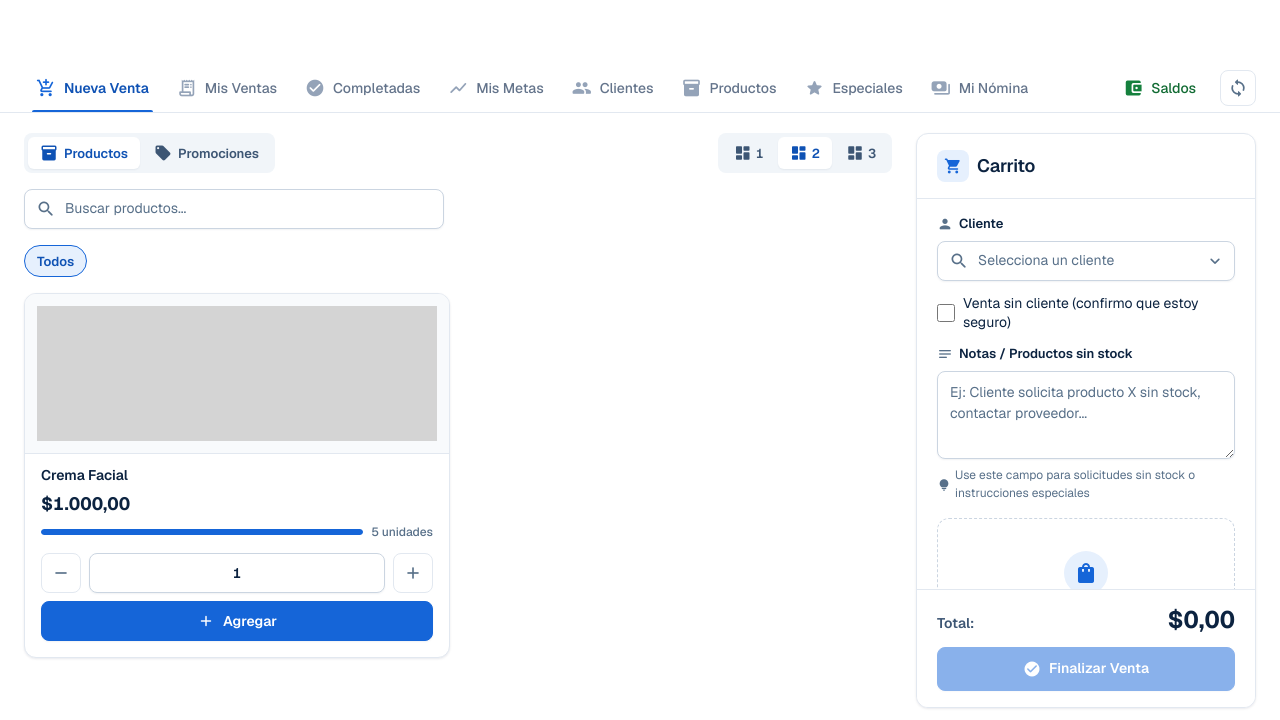
Test case: Mis Ventas: una respuesta vieja no devuelve a la página anterior
Expected: the heading "Crema Facial" is shown, [41, 466, 128, 485]
What coordinates should you click on to do the following:
click the button "Mis Ventas"
I would click on:
 (227, 88)
Its box is [165, 64, 289, 112].
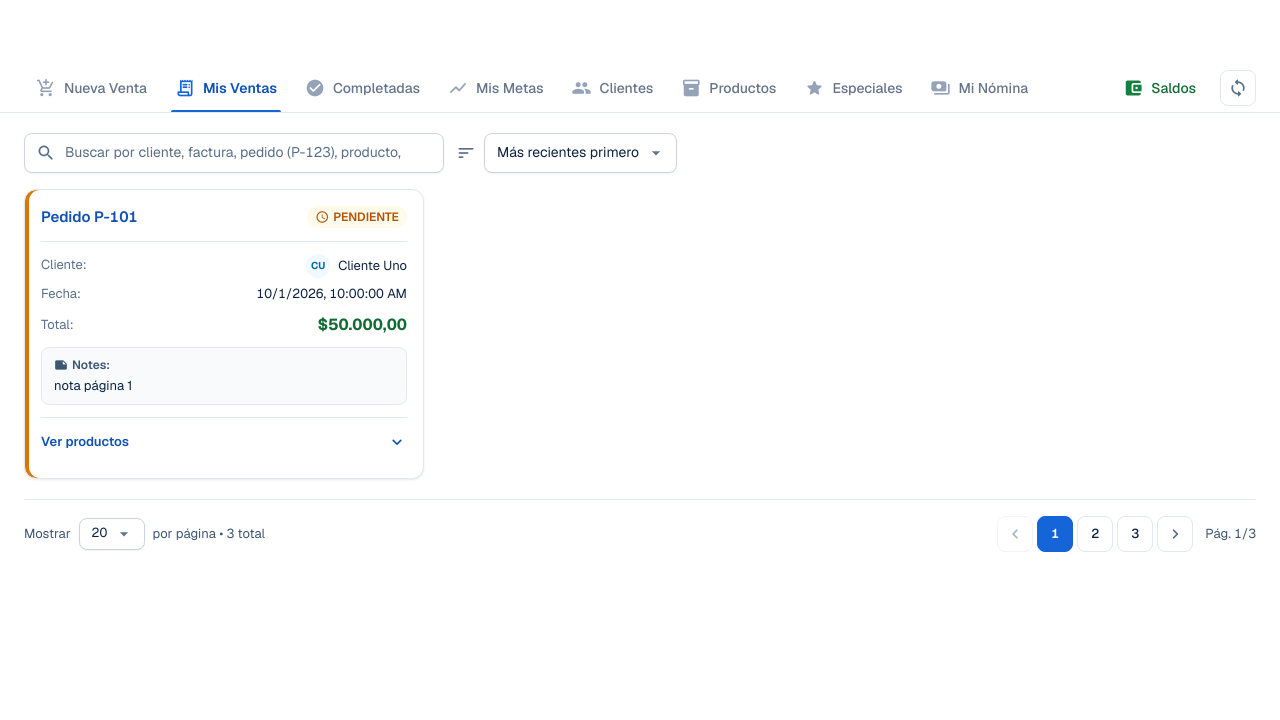
Expected: the text "nota página 1" is shown, [54, 377, 132, 394]
What coordinates should you click on to do the following:
click the button "2"
I would click on:
 (1095, 534)
Its box is [1077, 516, 1113, 552].
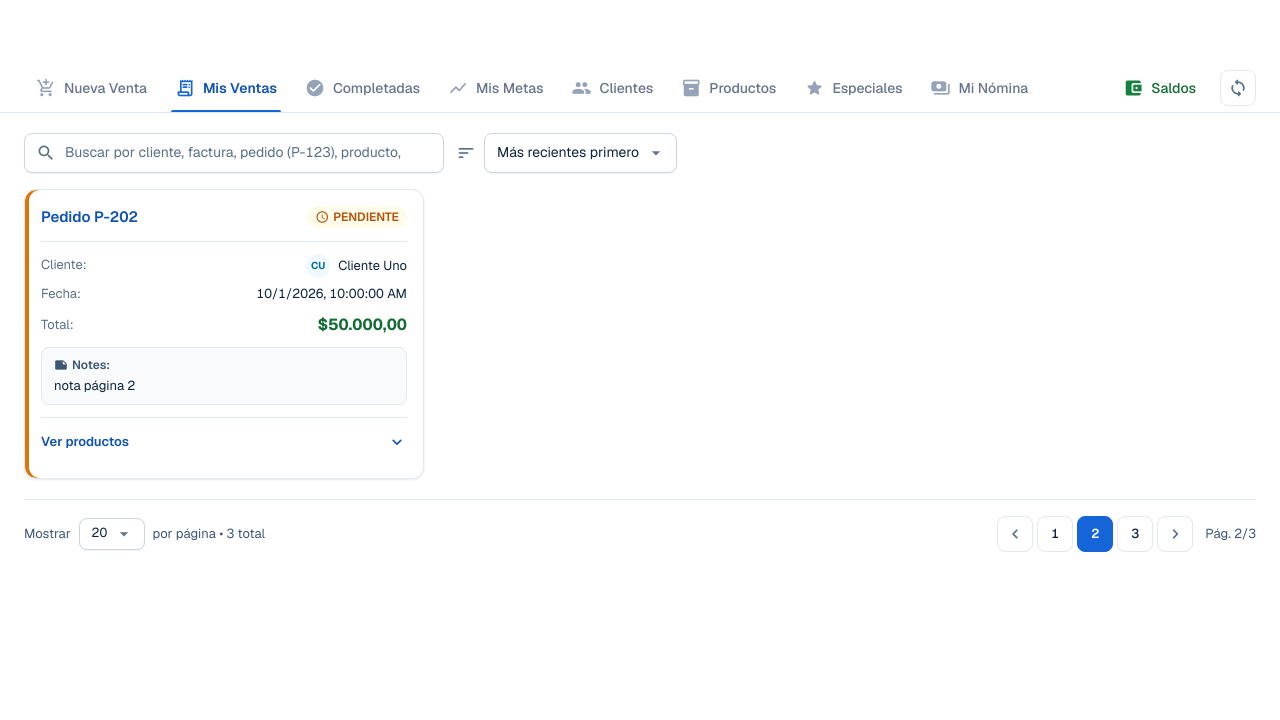
Expected: the text "Pág. 2/3" is shown, [1205, 524, 1256, 543]
Expected: the text "nota página 2" is shown, [54, 377, 135, 394]
Expected: the text "nota página 1" is gone
